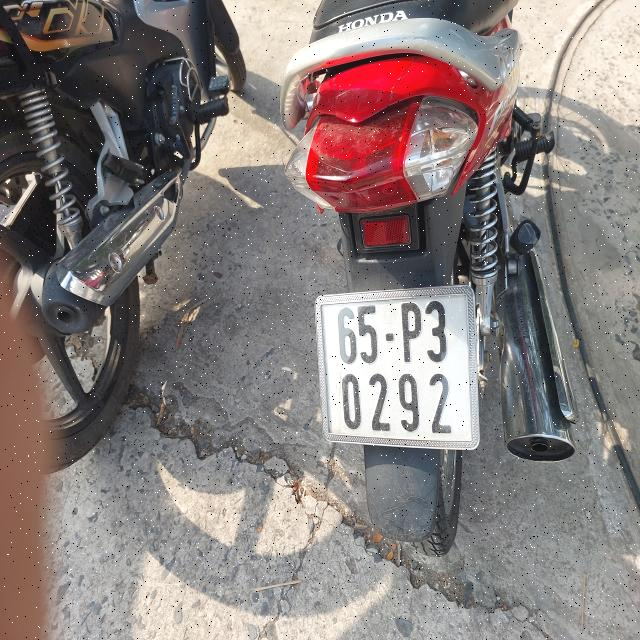0: (339, 372, 363, 430)
2: (428, 371, 452, 435), (368, 372, 390, 432)
3: (424, 299, 448, 363)
5: (357, 304, 379, 364)
6: (338, 306, 358, 363)
9: (397, 372, 420, 433)
P: (399, 301, 422, 362)
